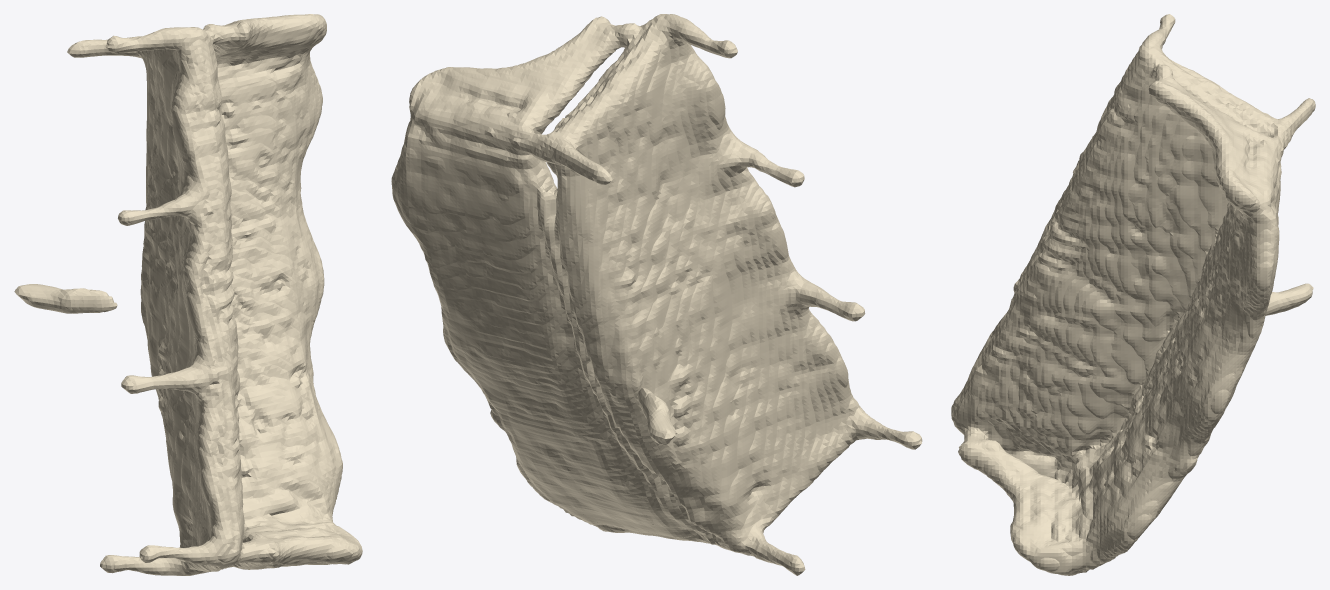
File: raw.glb
The picture shows the model from 3 angles, left to right: view 1: azimuth 30°, elevation 25°; view 2: azimuth 150°, elevation 25°; view 3: azimuth 270°, elevation 25°; orthographic projection. The views are drawn at different scales.
Visible parts, largest first — view 1: world; view 2: world; view 3: world.
Part boxes in pixels (<box>): world: <box>14,14,362,575</box>; world: <box>391,14,922,575</box>; world: <box>951,14,1315,575</box>.
Size of the model in its own units: 0.85 by 1.29 by 0.8684.
